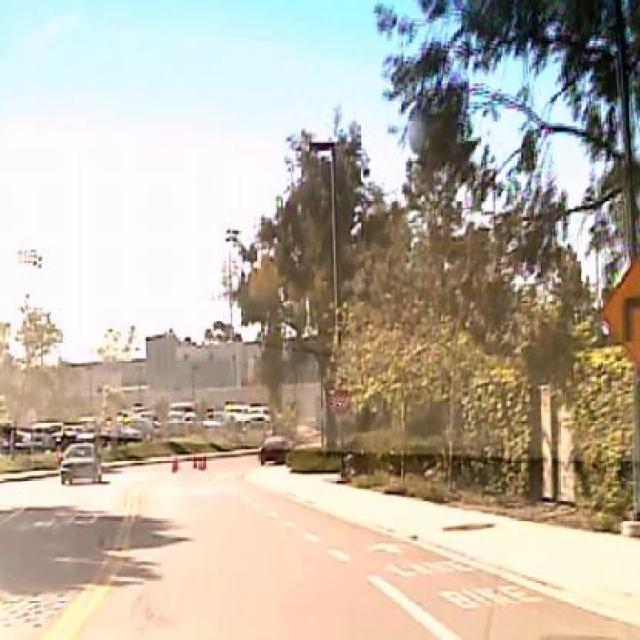stop: (331, 386, 352, 417)
